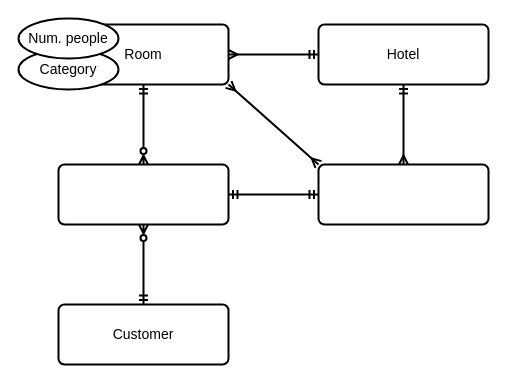
This 506x382 diagram has some shape labels left out. The box of each missing label's shape, as (x1, y1, x2, y2) in pixels:
Order: (57, 163, 229, 225)
Tariff (including historical): (317, 163, 489, 225)
